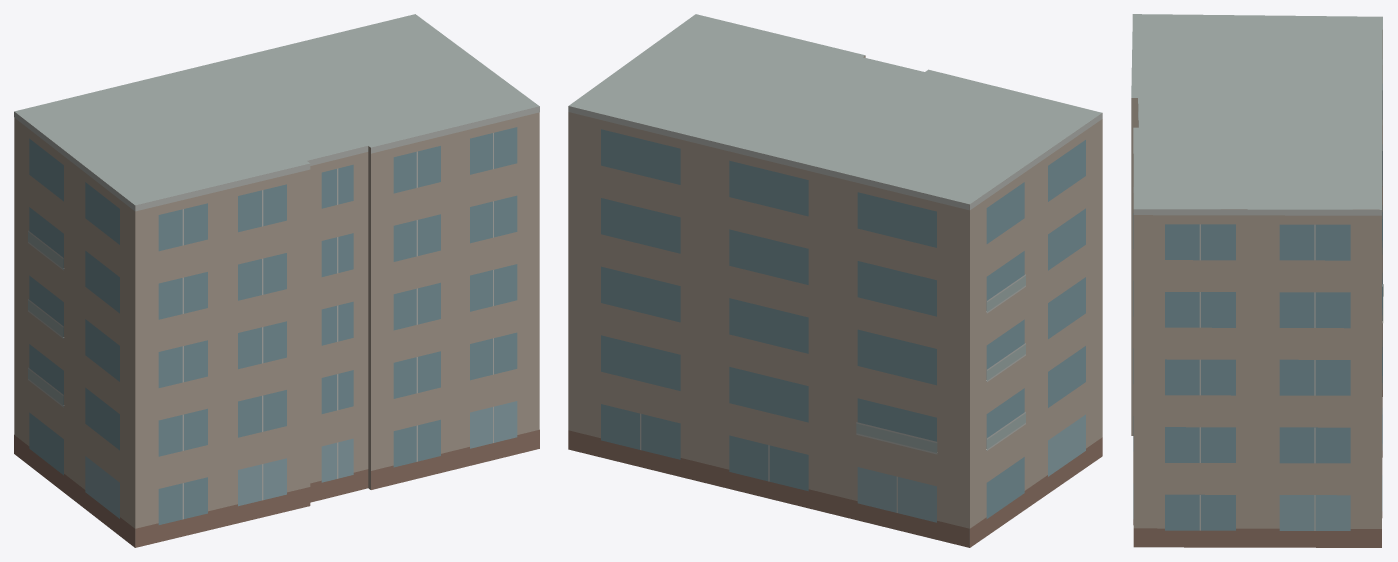
File: survey-upis-32978341.glb
3 renders of one model, left to right at view 1: azimuth 30°, elevation 25°; view 2: azimuth 150°, elevation 25°; view 3: azimuth 270°, elevation 25°, orthographic.
Visible parts, largest first — view 1: survey-upis-32978341.tmp; view 2: survey-upis-32978341.tmp; view 3: survey-upis-32978341.tmp.
Boxes of the visible parts, x1,y1,x2,y2 form: survey-upis-32978341.tmp: [14, 14, 539, 547]; survey-upis-32978341.tmp: [568, 14, 1102, 547]; survey-upis-32978341.tmp: [1131, 14, 1383, 547].
Size of the model in its own units: 17.27 by 13.9 by 9.42.
